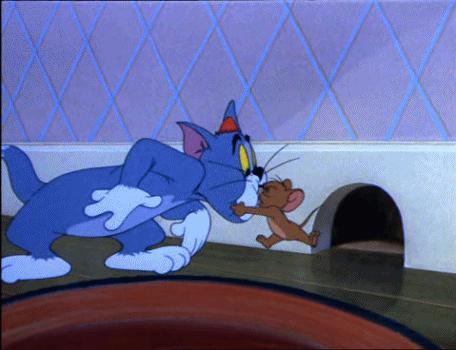jerry: (230, 174, 321, 249)
